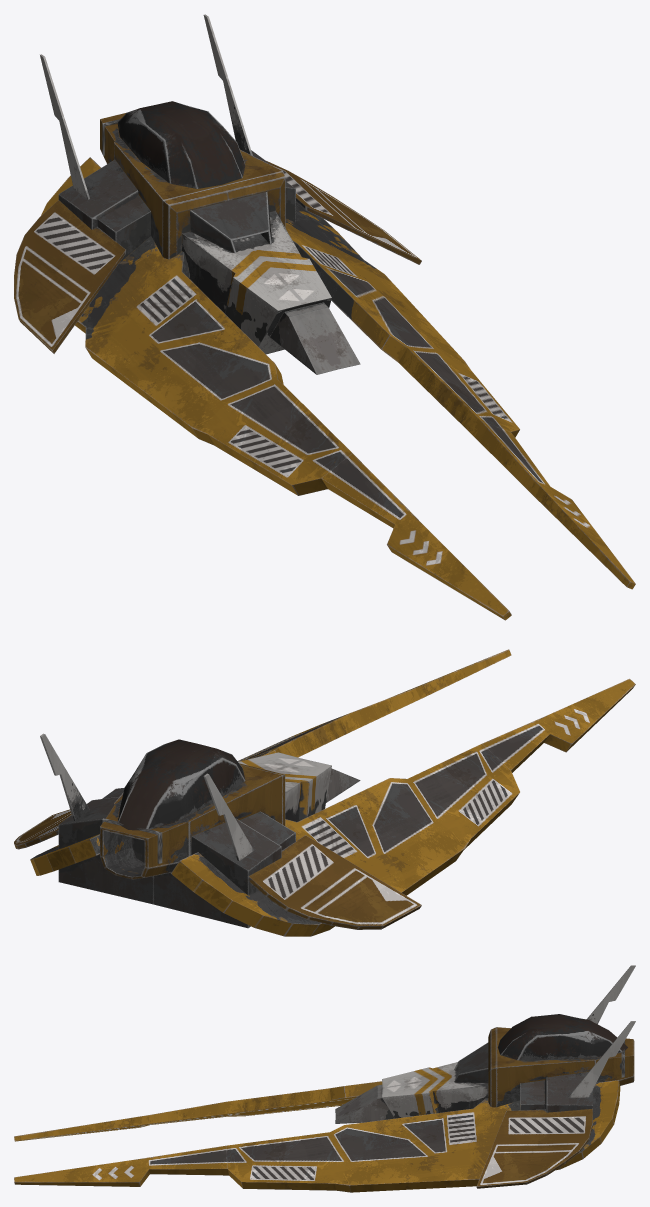
File: qs_dispatcher.glb
3 views of the same model, one above another, from view 1: azimuth 30°, elevation 25°; view 2: azimuth 150°, elevation 25°; view 3: azimuth 270°, elevation 25° (orthographic). The views are drawn at different scales.
Visible parts, largest first — view 1: Dispatcher; view 2: Dispatcher; view 3: Dispatcher.
Part boxes in pixels (box(x1,y1,x2,y2)): Dispatcher: box(14, 14, 635, 620); Dispatcher: box(14, 649, 635, 936); Dispatcher: box(14, 965, 635, 1192).
Size of the model in its own units: 4.9 by 3.09 by 10.26.
1 material, 1 textured.
